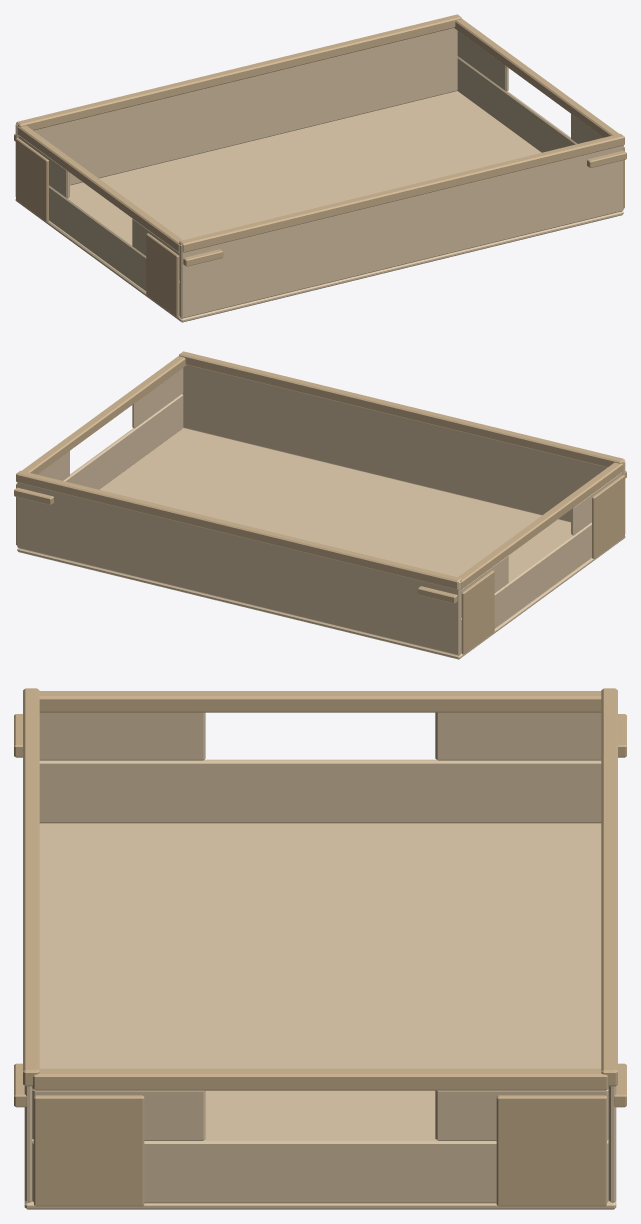
File: fresh-produce-and-groceries-cardboard-produce-tray-0d960c9e__24450.glb
3 views of the same model, one above another, from view 1: azimuth 30°, elevation 25°; view 2: azimuth 150°, elevation 25°; view 3: azimuth 270°, elevation 25° (orthographic). The views are drawn at different scales.
Visible parts, largest first — view 1: cardboard-produce-tray; view 2: cardboard-produce-tray; view 3: cardboard-produce-tray.
Boxes of the visible parts, box(x1,y1,x2,y2) form: cardboard-produce-tray: box(14, 14, 626, 322); cardboard-produce-tray: box(14, 351, 626, 659); cardboard-produce-tray: box(14, 688, 626, 1209).
Size of the model in its own units: 0.6 by 0.1012 by 0.4.
